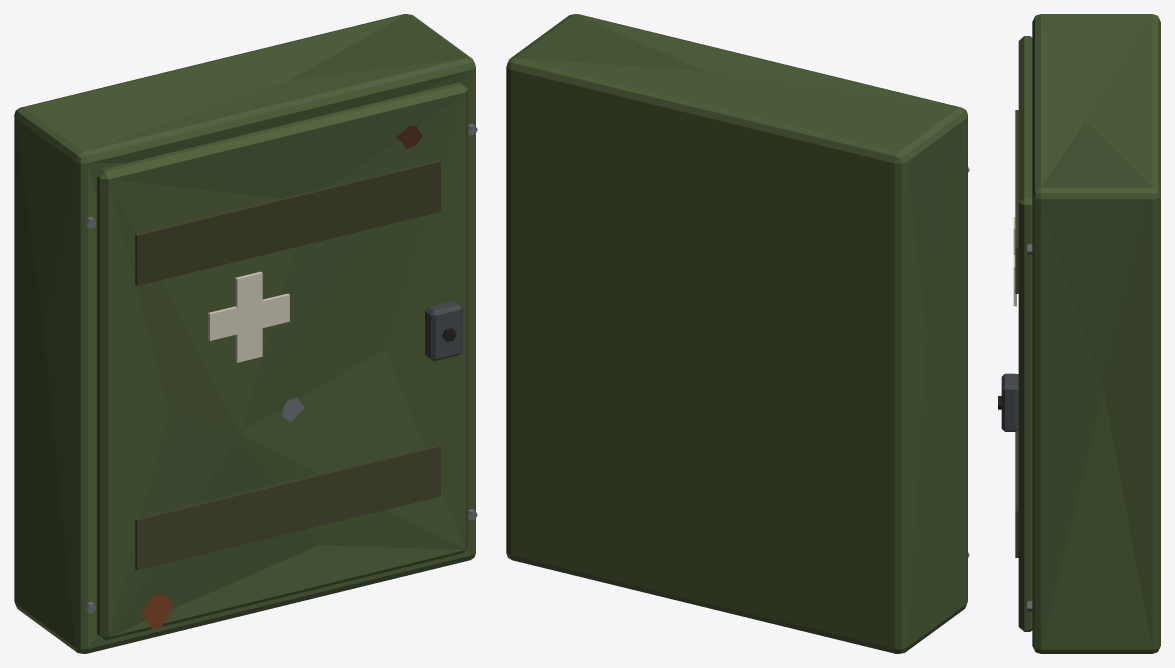
The model's file is medicine_cabinet_metallicheskiy_idle.glb.
The picture shows the model from 3 angles, left to right: view 1: azimuth 30°, elevation 25°; view 2: azimuth 150°, elevation 25°; view 3: azimuth 270°, elevation 25°; orthographic projection. The views are drawn at different scales.
Parts seen in each view (by area): view 1: medicine_cabinet_metallicheskiy_idle; view 2: medicine_cabinet_metallicheskiy_idle; view 3: medicine_cabinet_metallicheskiy_idle.
Boxes of the visible parts, x1,y1,x2,y2 form: medicine_cabinet_metallicheskiy_idle: [14, 14, 477, 653]; medicine_cabinet_metallicheskiy_idle: [506, 14, 969, 653]; medicine_cabinet_metallicheskiy_idle: [998, 14, 1160, 653].
Bounding box in the file's own units: 0.5 × 0.6 × 0.19.
Materials: 1 (1 with a texture image).
